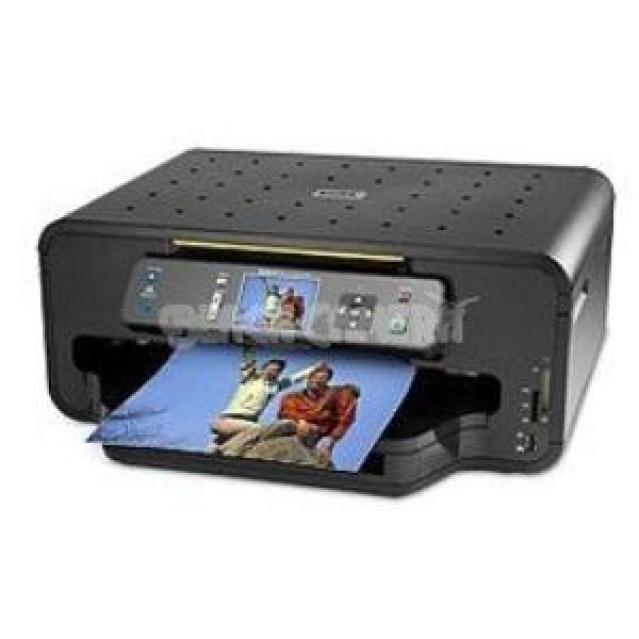Printer: (36, 148, 614, 498)
